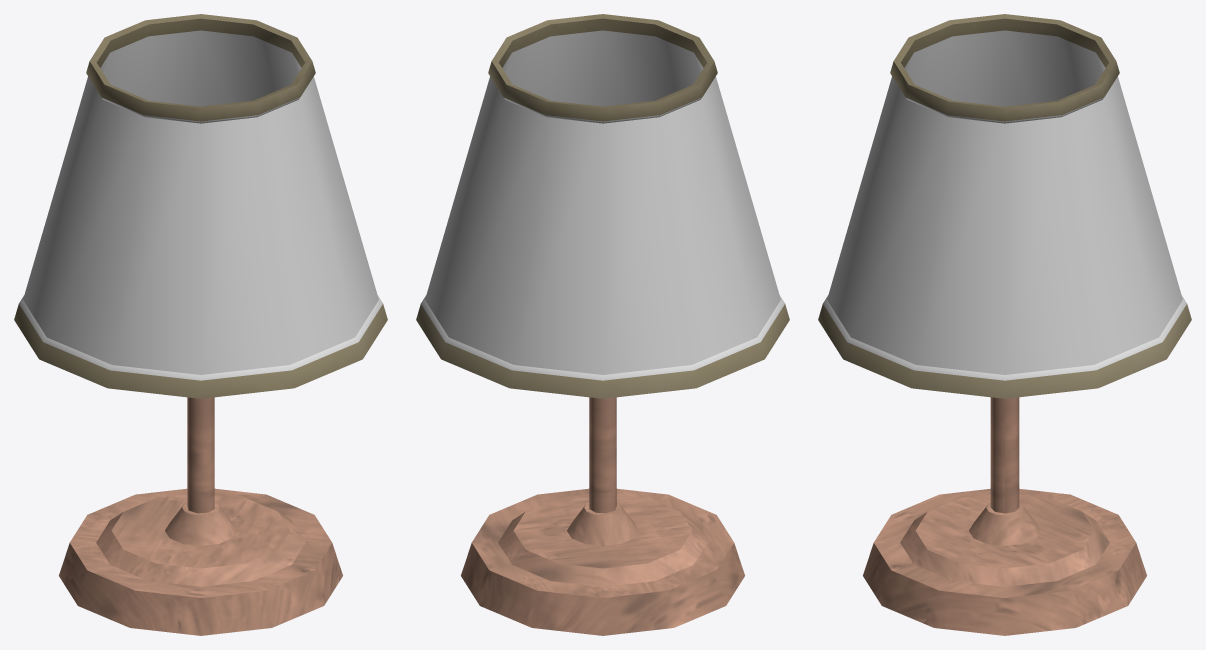
Rendered from Lamp.fbx.
3 renders of one model, left to right at view 1: azimuth 30°, elevation 25°; view 2: azimuth 150°, elevation 25°; view 3: azimuth 270°, elevation 25°, orthographic.
Parts seen in each view (by area): view 1: Lamp; view 2: Lamp; view 3: Lamp.
Part boxes in pixels (<box>): Lamp: <box>14,14,387,635</box>; Lamp: <box>416,14,789,635</box>; Lamp: <box>818,14,1191,635</box>.
Bounding box in the file's own units: 159 × 242 × 159.
